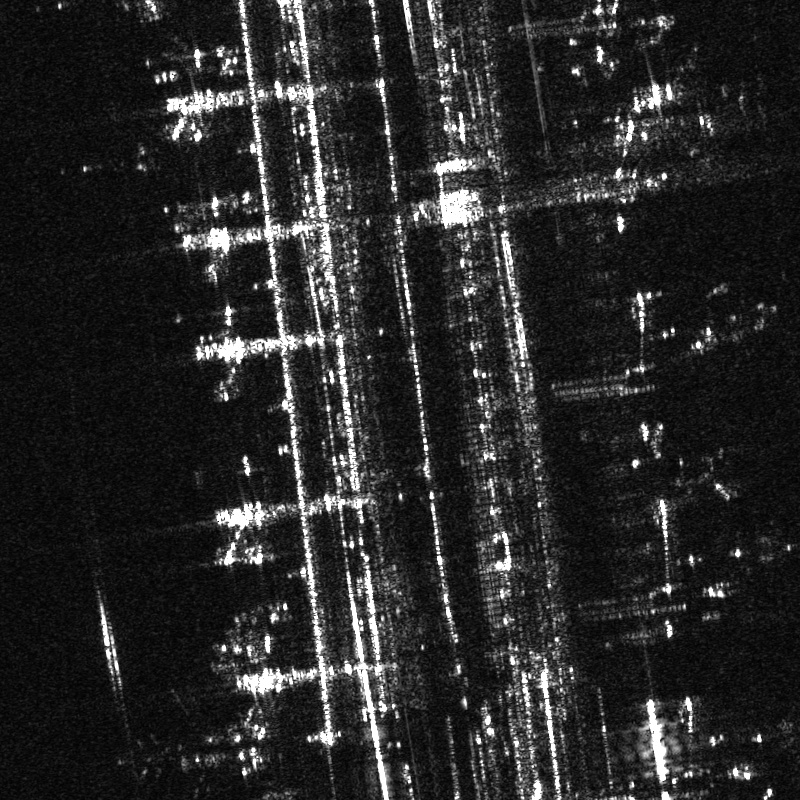A330: (118, 694, 233, 799)
